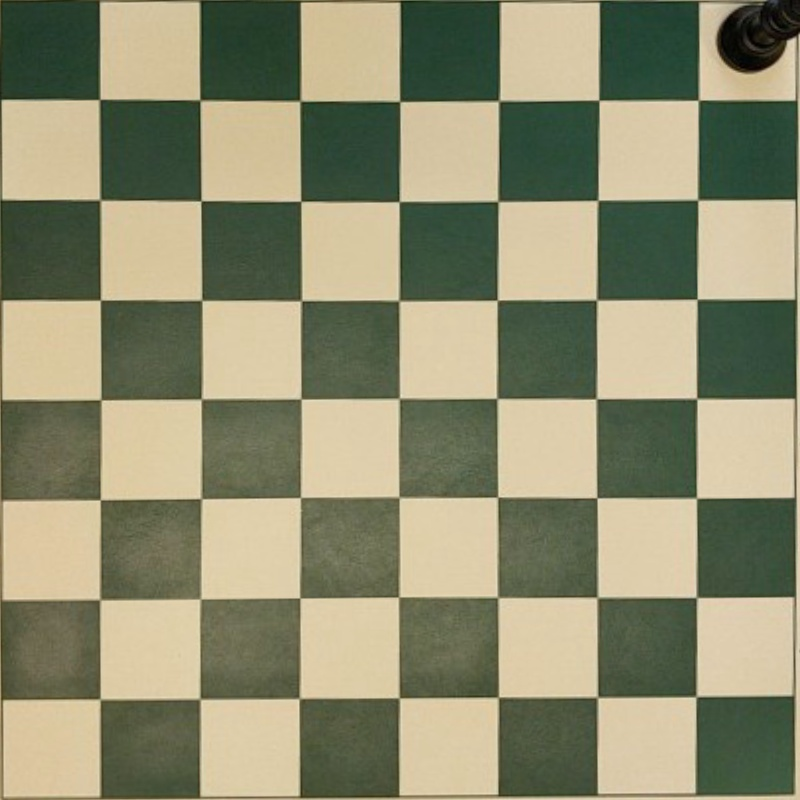black-king: (717, 0, 800, 72)
